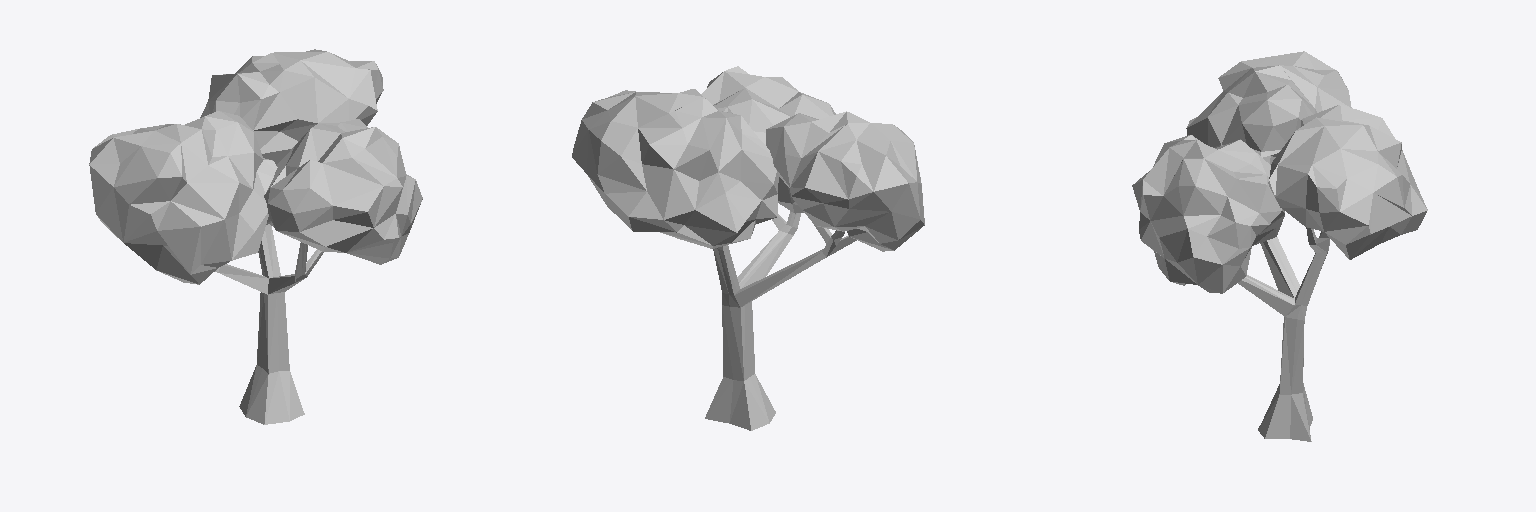
File: Arbol2.obj
3 views of the same model, side by side, from view 1: azimuth 30°, elevation 25°; view 2: azimuth 150°, elevation 25°; view 3: azimuth 270°, elevation 25° (orthographic).
Visible parts, largest first — view 1: Tree_average_regular_Cube_002; view 2: Tree_average_regular_Cube_002; view 3: Tree_average_regular_Cube_002.
Part boxes in pixels (x1,y1,x2,y2): Tree_average_regular_Cube_002: (89,49,422,424); Tree_average_regular_Cube_002: (572,66,924,430); Tree_average_regular_Cube_002: (1132,51,1427,441).
Bounding box in the file's own units: 14.69 × 14.62 × 12.04.